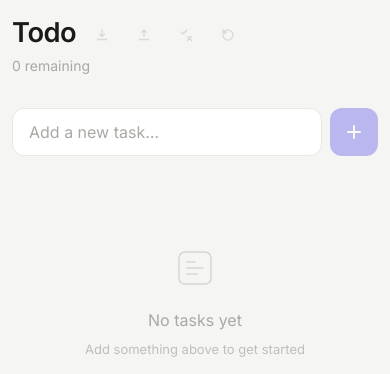
it: TodoApp › shows name input when title is clicked
This screenshot has width=390, height=374.
Click the heading with class "title".
click(44, 32)  # box [12,16,76,49]
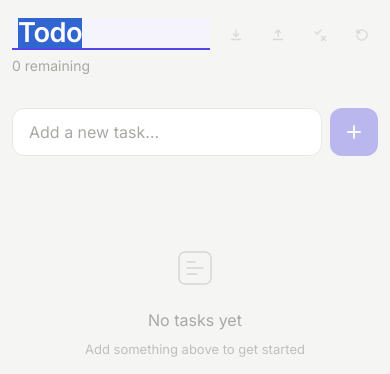
Expected: the field with class "title-input" is shown, [12,18,210,48]
